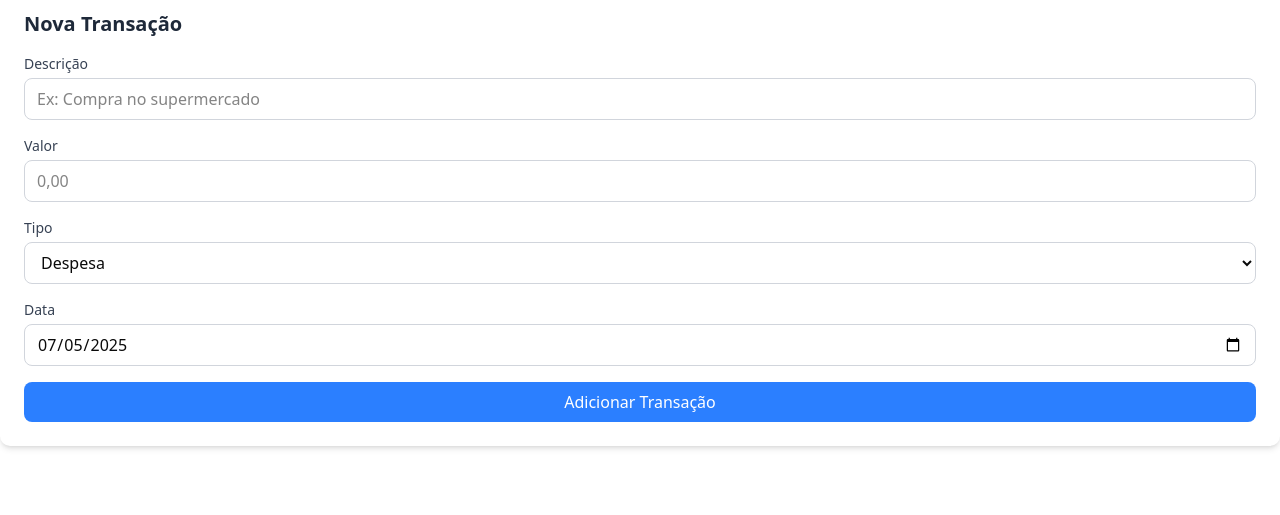
Scenario: TransactionForm › clears validation errors when user starts typing
The image size is (1280, 515).
Trigger validation error
Click the button "Adicionar Transação" at coordinates (640, 402), box [24, 382, 1256, 422]
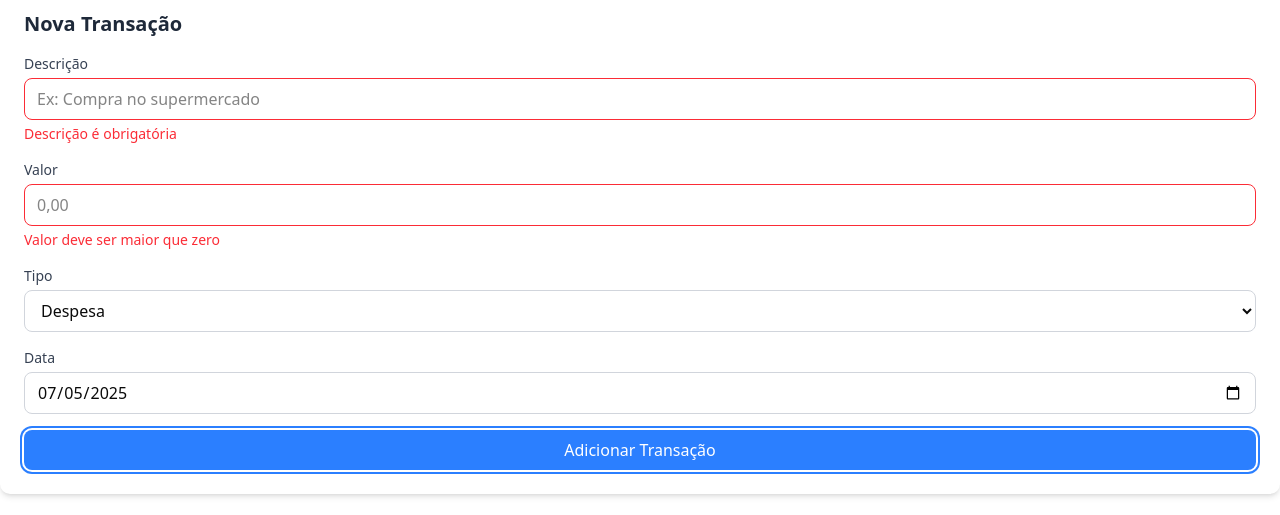
expect the text "Descrição é obrigatória" is shown: met, box [24, 124, 177, 143]
Start typing to clear error
Type "Test" into the field labelled "Descrição" at coordinates (640, 99), box [24, 78, 1256, 120]
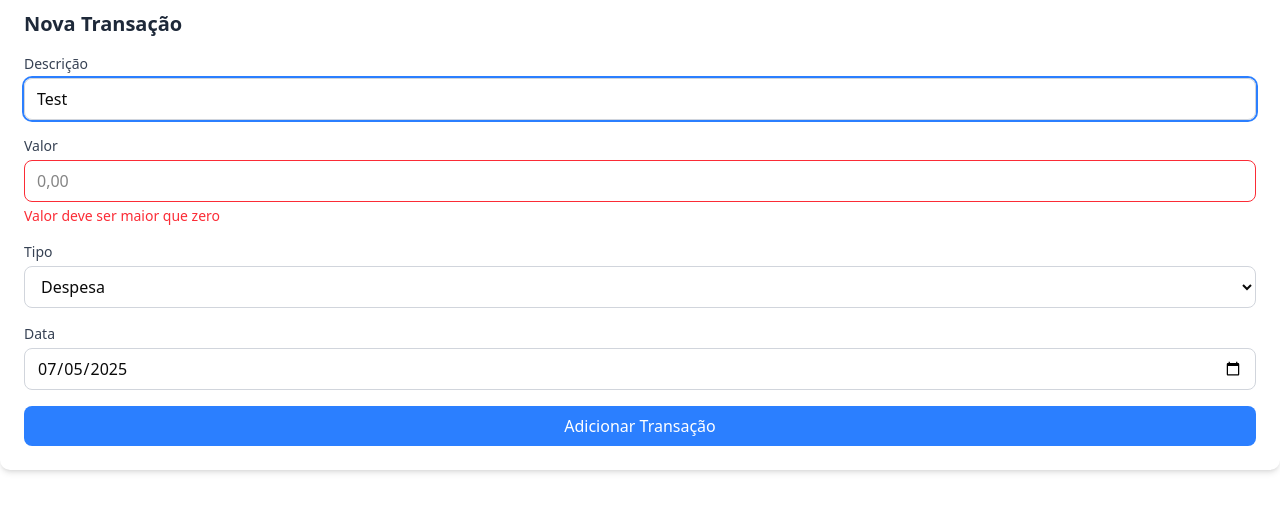
expect the text "Descrição é obrigatória" is gone: met
